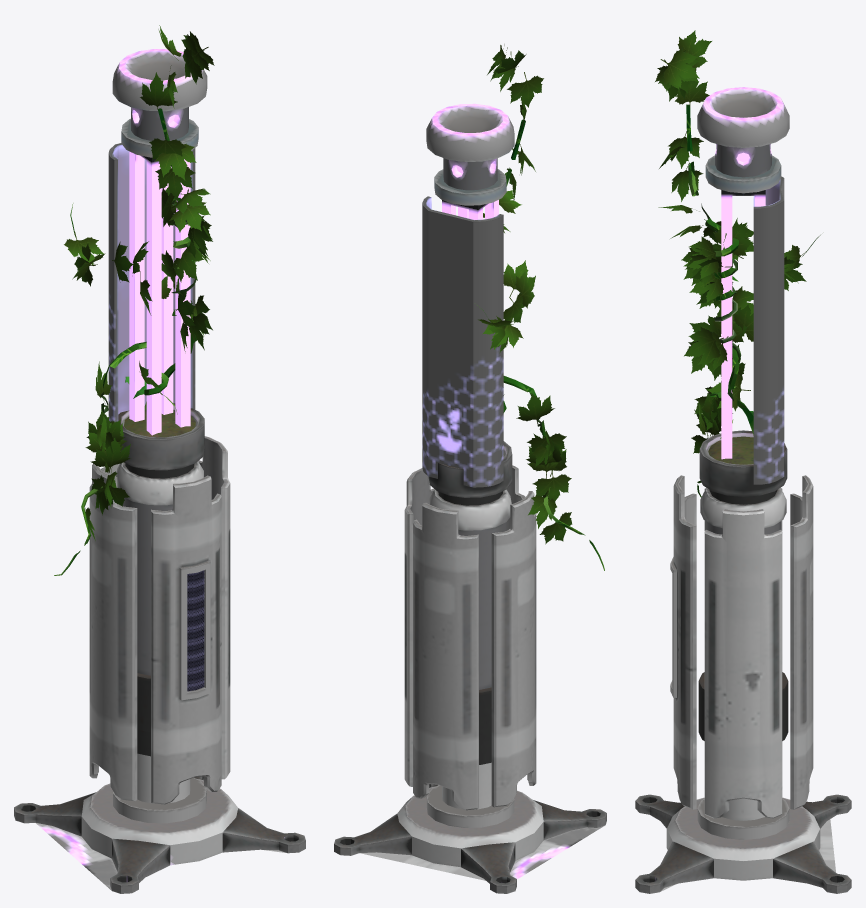
Rendered from neon2b.fbx.
The picture shows the model from 3 angles, left to right: view 1: azimuth 30°, elevation 25°; view 2: azimuth 150°, elevation 25°; view 3: azimuth 270°, elevation 25°; orthographic projection. The views are drawn at different scales.
Parts seen in each view (by area): view 1: Neon2b; view 2: Neon2b; view 3: Neon2b.
Part boxes in pixels (left/top/right/bottom): Neon2b: left=14, top=25, right=305, bottom=893; Neon2b: left=334, top=44, right=606, bottom=893; Neon2b: left=635, top=30, right=851, bottom=893.
Size of the model in its own units: 87.06 by 320 by 75.76.
3 materials, 3 textured.
